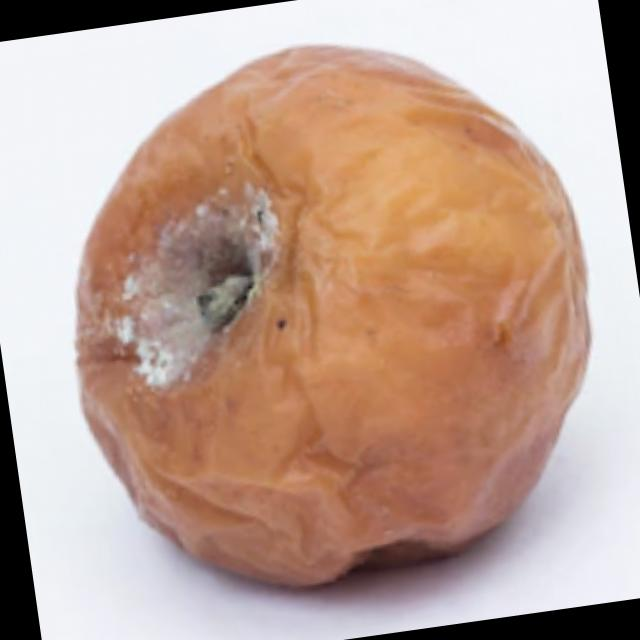rotten_apple: (32, 9, 626, 624)
